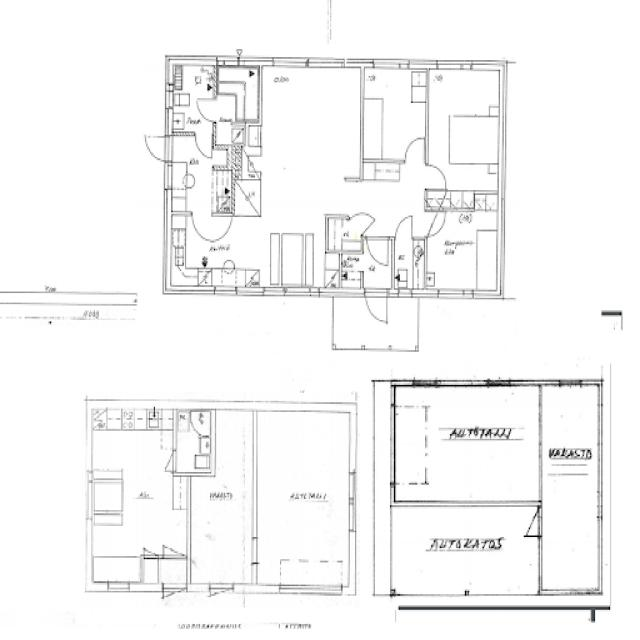door: (426, 204, 463, 250), (163, 586, 187, 626), (210, 586, 233, 625), (365, 288, 387, 327), (349, 204, 375, 236), (515, 508, 543, 536), (146, 136, 174, 162), (163, 527, 186, 558), (367, 236, 388, 266), (424, 164, 446, 190), (194, 98, 216, 122), (192, 212, 211, 239), (405, 136, 423, 162), (156, 450, 177, 472), (195, 132, 212, 157), (396, 216, 412, 240), (144, 538, 157, 558)
